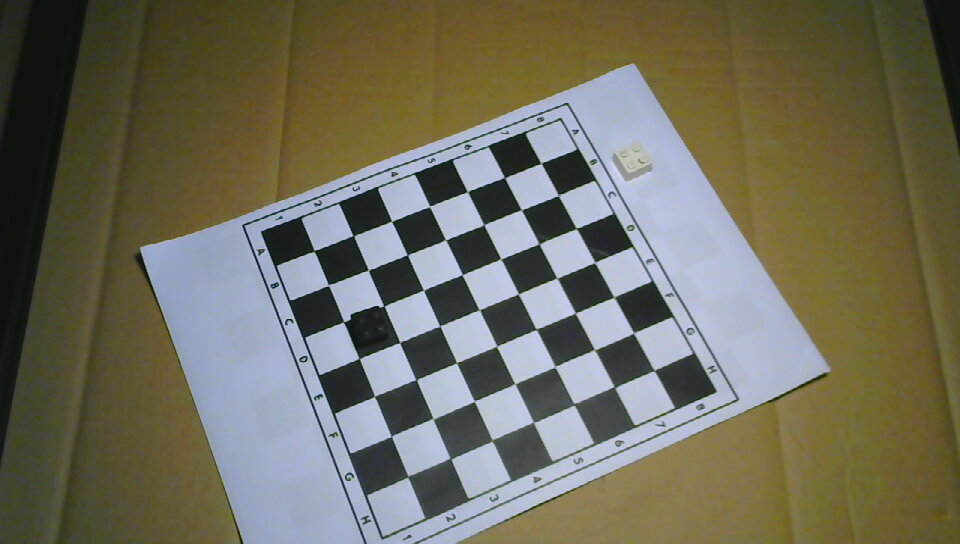bp: (351, 306, 389, 347)
wp: (611, 142, 653, 182)
